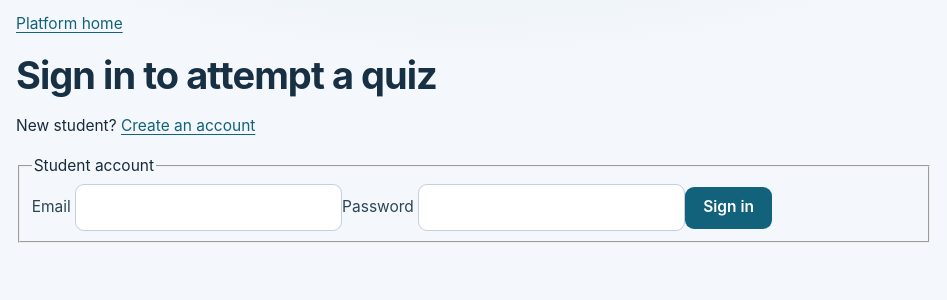
Test: educator login cannot enter the attempt screen
Type "student@example.com" into the field labelled "Email" at coordinates (209, 208), box x1=75 y1=184 x2=342 y2=231
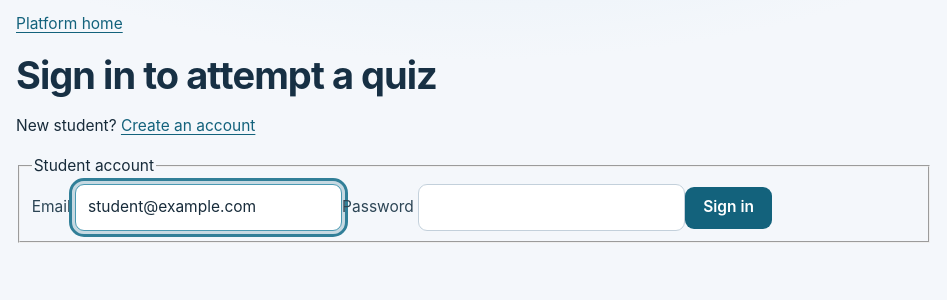
Type "Study1234" into the password field labelled "Password" at coordinates (552, 208), box x1=418 y1=184 x2=685 y2=231
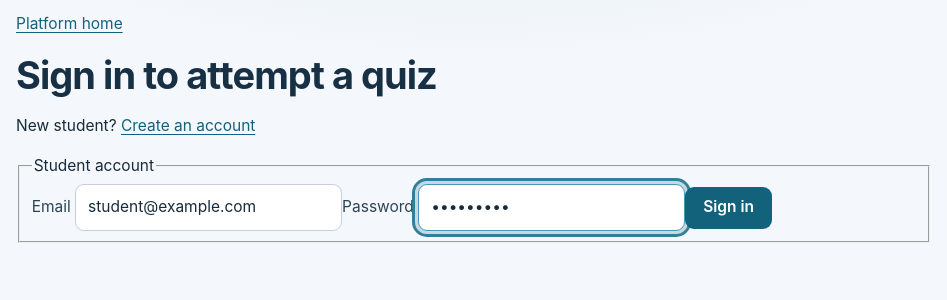
Click the button "Sign in" at coordinates (729, 208), box x1=685 y1=187 x2=772 y2=229
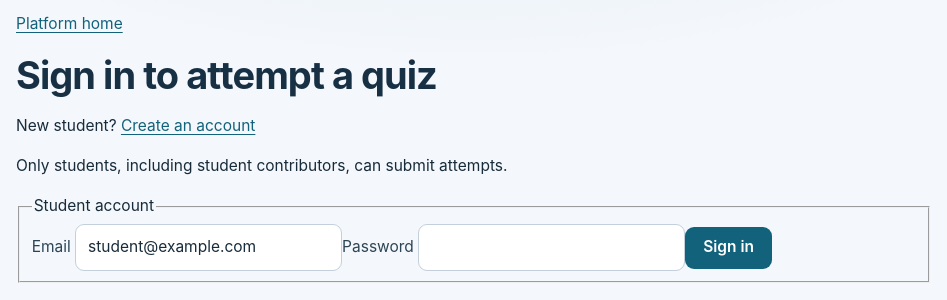
Result: the message shows "Only students" at x1=16 y1=156 x2=508 y2=175
